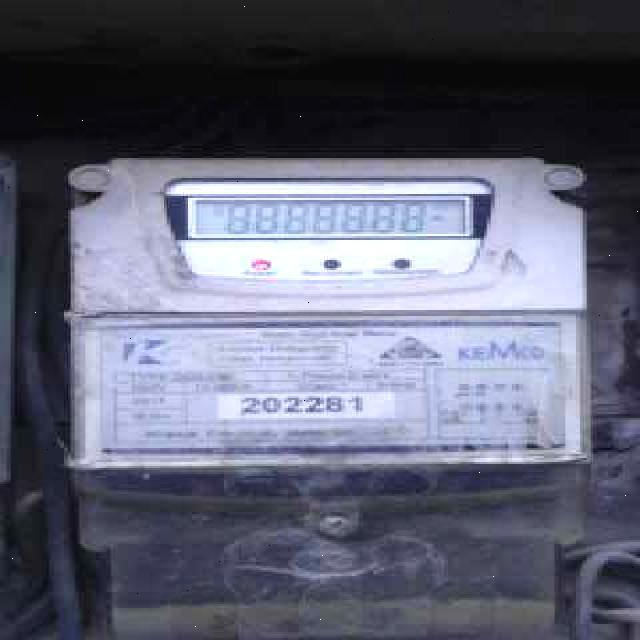LCD: (185, 188, 475, 245)
